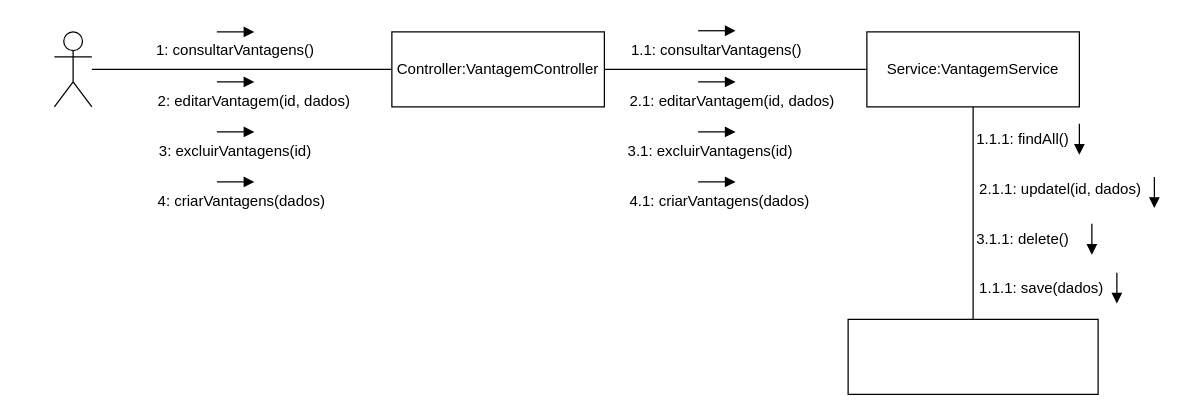
Some shapes in this 1186 by 416 pixel diagram are drawn without their labels. The box of each missing label's shape, as (x1, y1, x2, y2) in pixels:
AgenteParceiro: (53, 31, 92, 107)
Repository:VantagemRepository: (847, 318, 1098, 394)
